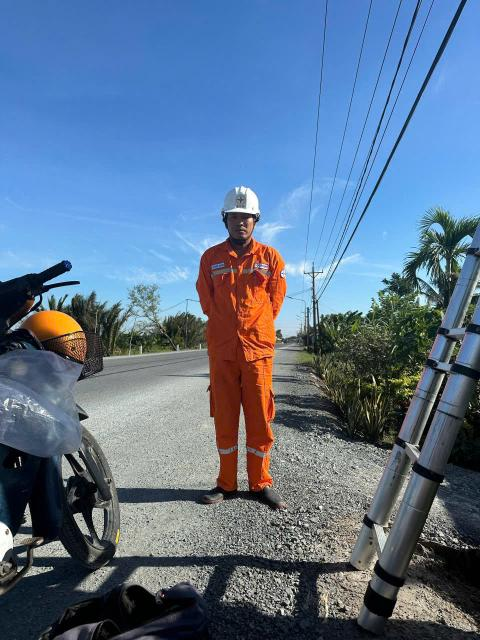helmet: (221, 181, 259, 223)
shoes: (199, 474, 237, 521), (255, 483, 285, 508)
